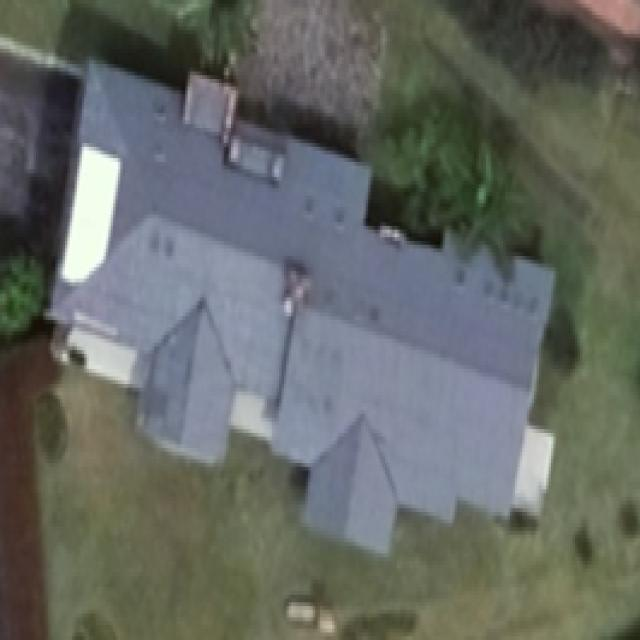Batiment: (50, 65, 554, 551)
